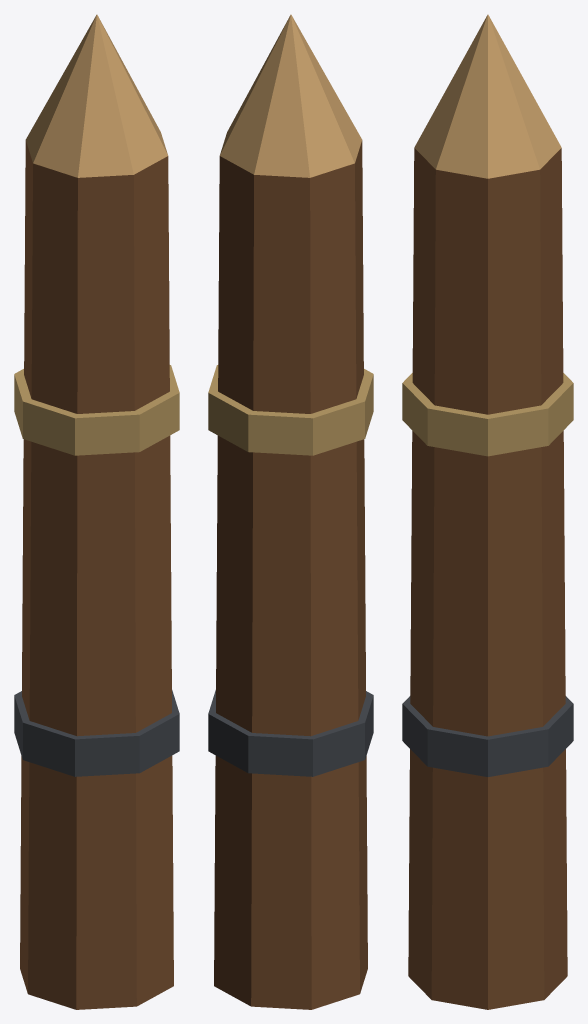
Rendered from palisade_pillar.glb.
3 views of the same model, side by side, from view 1: azimuth 30°, elevation 25°; view 2: azimuth 150°, elevation 25°; view 3: azimuth 270°, elevation 25° (orthographic).
Parts seen in each view (by area): view 1: wall_palisade_pillar; view 2: wall_palisade_pillar; view 3: wall_palisade_pillar.
Boxes of the visible parts, <box> form: wall_palisade_pillar: <box>14,14,179,1009</box>; wall_palisade_pillar: <box>208,14,373,1009</box>; wall_palisade_pillar: <box>402,14,573,1009</box>.
Bounding box in the file's own units: 0.58 × 3.6 × 0.58.
